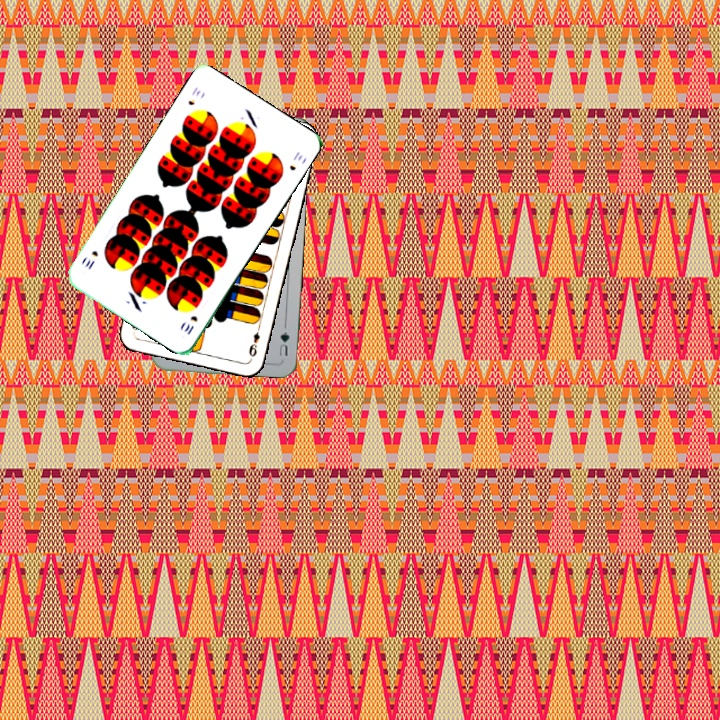E9: (245, 321, 263, 359)
GU: (275, 327, 292, 359)
S10: (180, 311, 200, 337), (184, 83, 203, 108)
